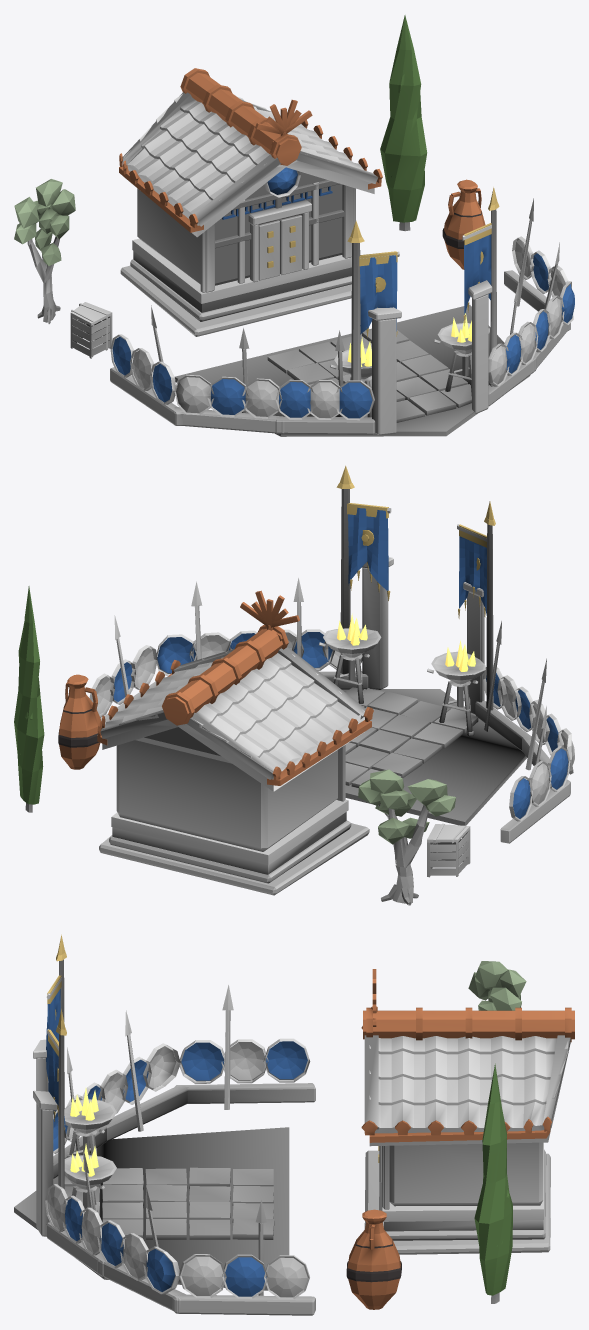
The model's file is shield-camp-l1.glb.
3 views of the same model, one above another, from view 1: azimuth 30°, elevation 25°; view 2: azimuth 150°, elevation 25°; view 3: azimuth 270°, elevation 25° (orthographic). The views are drawn at different scales.
Visible parts, largest first — view 1: shield-camp-l1; view 2: shield-camp-l1; view 3: shield-camp-l1.
Part boxes in pixels (x1,y1,x2,y2): shield-camp-l1: (14, 15, 574, 436); shield-camp-l1: (14, 465, 574, 905); shield-camp-l1: (14, 934, 574, 1315).
Size of the model in its own units: 1.56 by 0.7695 by 1.6.
